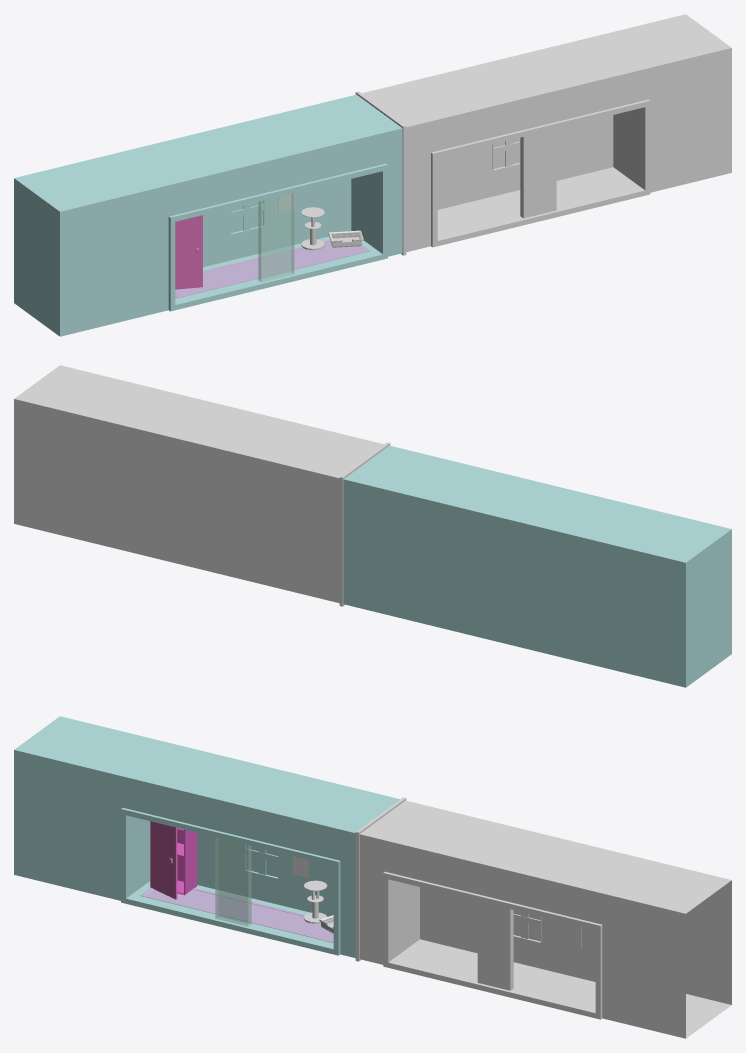
File: background_cat.fbx
3 renders of one model, top to bottom at view 1: azimuth 30°, elevation 25°; view 2: azimuth 150°, elevation 25°; view 3: azimuth 330°, elevation 25°, orthographic.
Visible parts, largest first — view 1: b1, b2, Carpet, t_wall_1, Closet_Usa, wall, cat_tree, window_frame, litter_box; view 2: b1, b2, wall; view 3: b2, b1, Carpet, t_wall_1, Closet_Usa, Closet_Corp, wall, cat_tree, window_frame.
Part boxes in pixels (x1,y1,x2,y2): b1: [14, 94, 402, 336]; b2: [362, 14, 731, 252]; Carpet: [175, 240, 370, 298]; t_wall_1: [258, 193, 294, 281]; Closet_Usa: [175, 215, 202, 289]; wall: [355, 91, 406, 255]; cat_tree: [301, 207, 324, 250]; window_frame: [230, 200, 264, 234]; litter_box: [328, 230, 363, 247]; b1: [343, 445, 731, 687]; b2: [14, 365, 383, 603]; wall: [339, 442, 390, 606]; b2: [359, 800, 731, 1038]; b1: [14, 716, 399, 957]; Carpet: [140, 887, 333, 942]; t_wall_1: [215, 837, 251, 926]; Closet_Usa: [150, 821, 177, 899]; Closet_Corp: [177, 828, 197, 895]; wall: [355, 797, 406, 961]; cat_tree: [303, 880, 327, 923]; window_frame: [244, 844, 279, 879].
Bounding box in the file's own units: 6525 × 1196 × 816.
